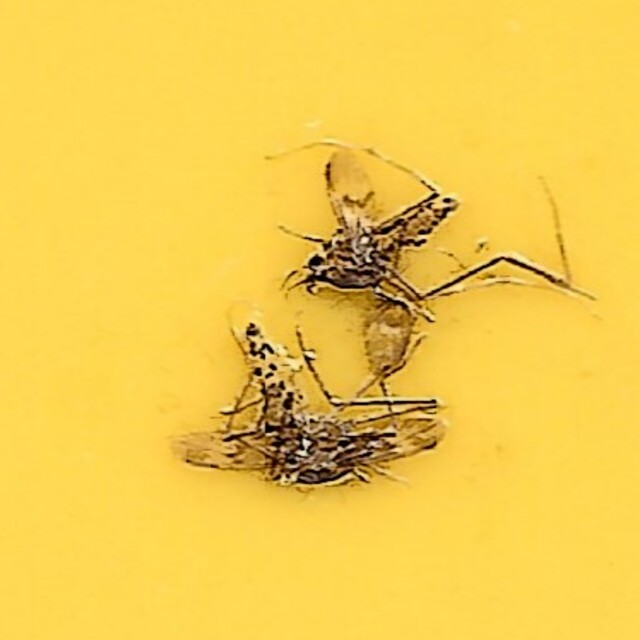Nematocera: (171, 321, 455, 494), (294, 146, 469, 381)
